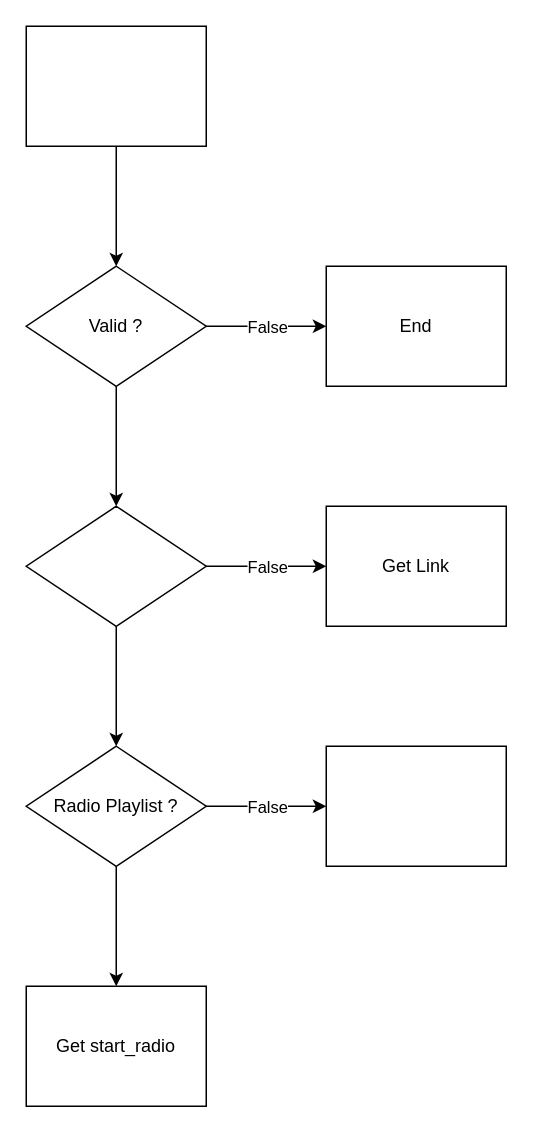
This 533x1133 diagram has some shape labels left out. Each missing label, with the centre of its shape:
Add to queue: point 415,805
Playlist ?: point 115,565
URL: point 115,85
